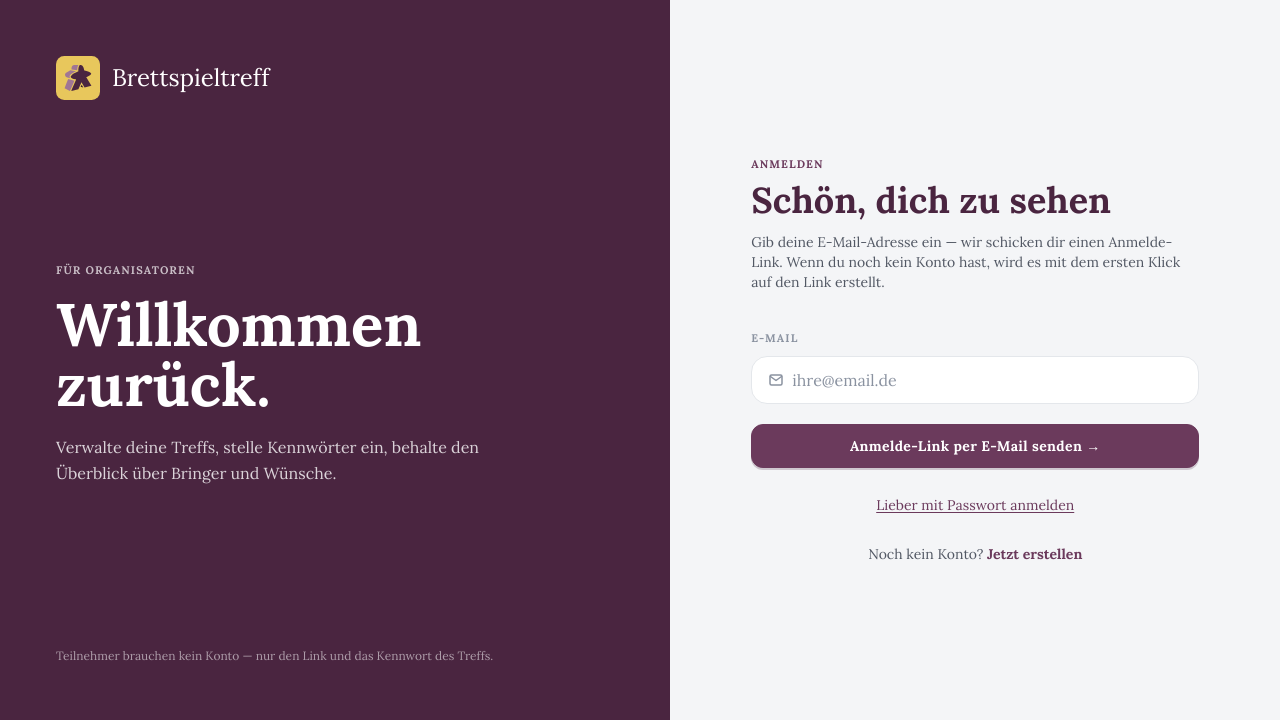
LoginPage › sends magic link via primary CTA
Type "someone@example.com" into the field labelled "E-Mail" at (987, 380), box [792, 368, 1182, 392]
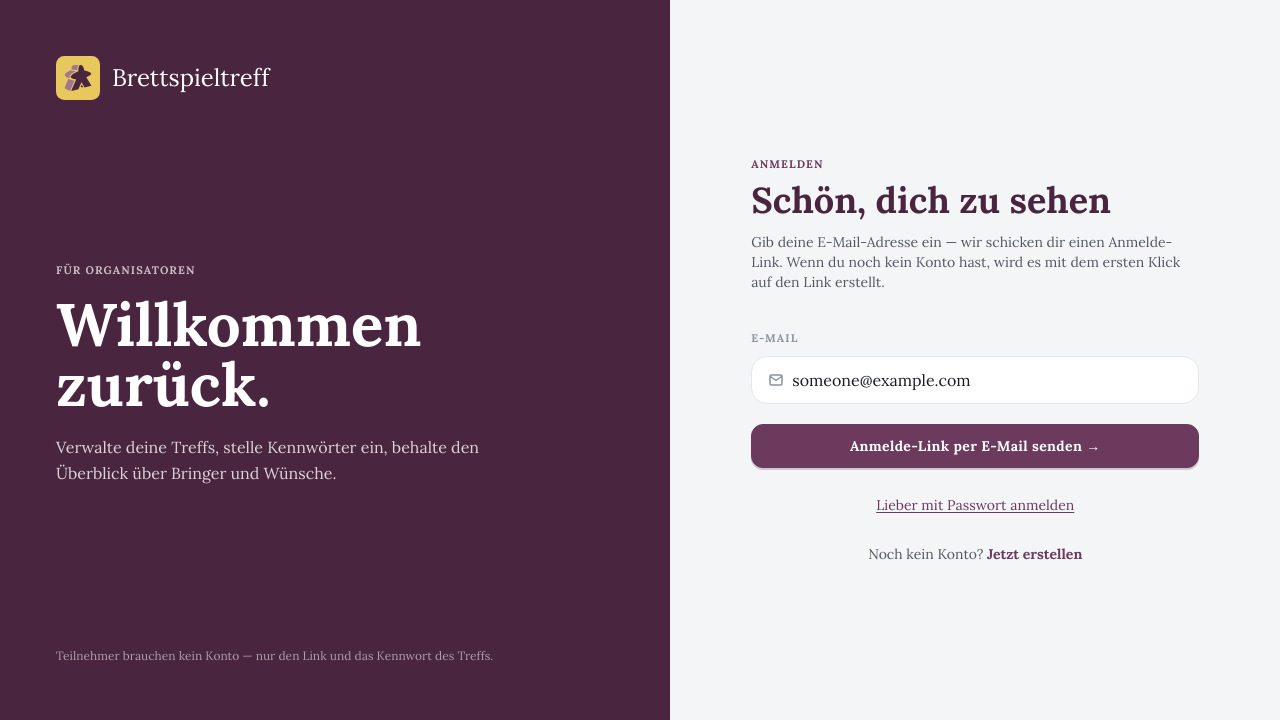
Click the button "Anmelde-Link per E-Mail senden →" at (975, 446), box [751, 424, 1199, 468]
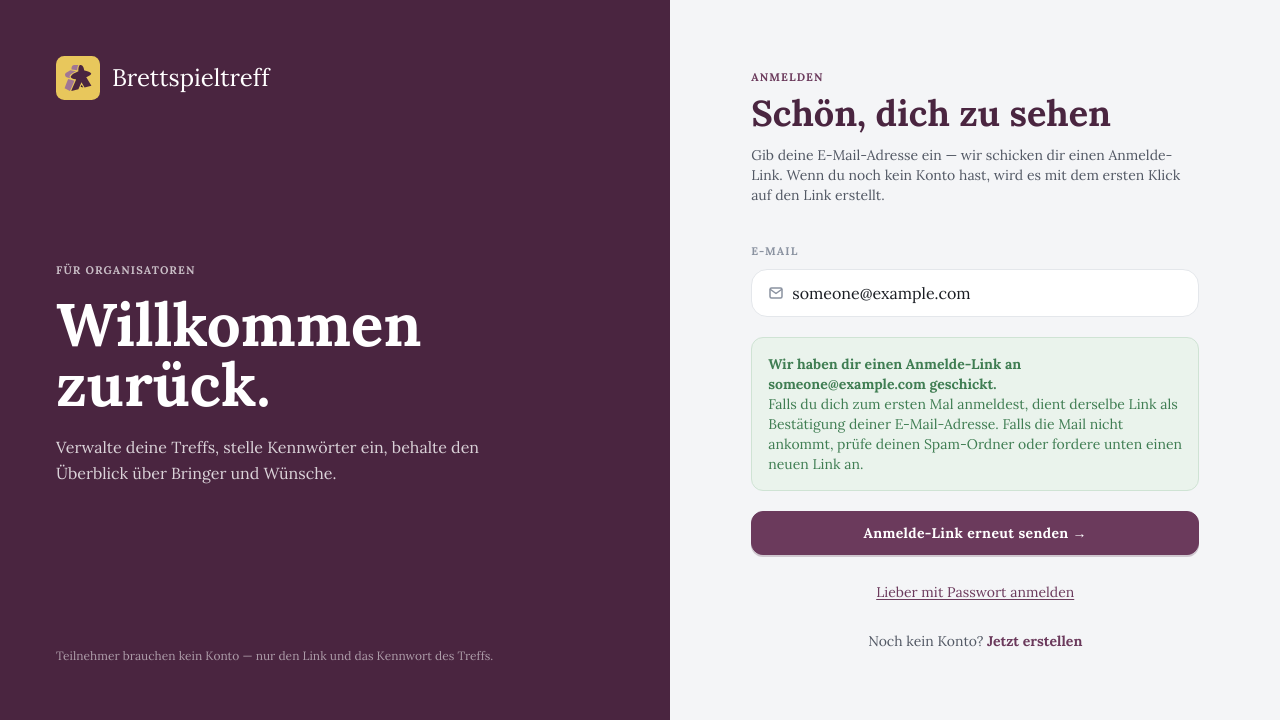
Result: the text "Wir haben dir einen Anmelde-Link an someone@example.com geschickt" is shown at [768, 355, 1021, 393]
